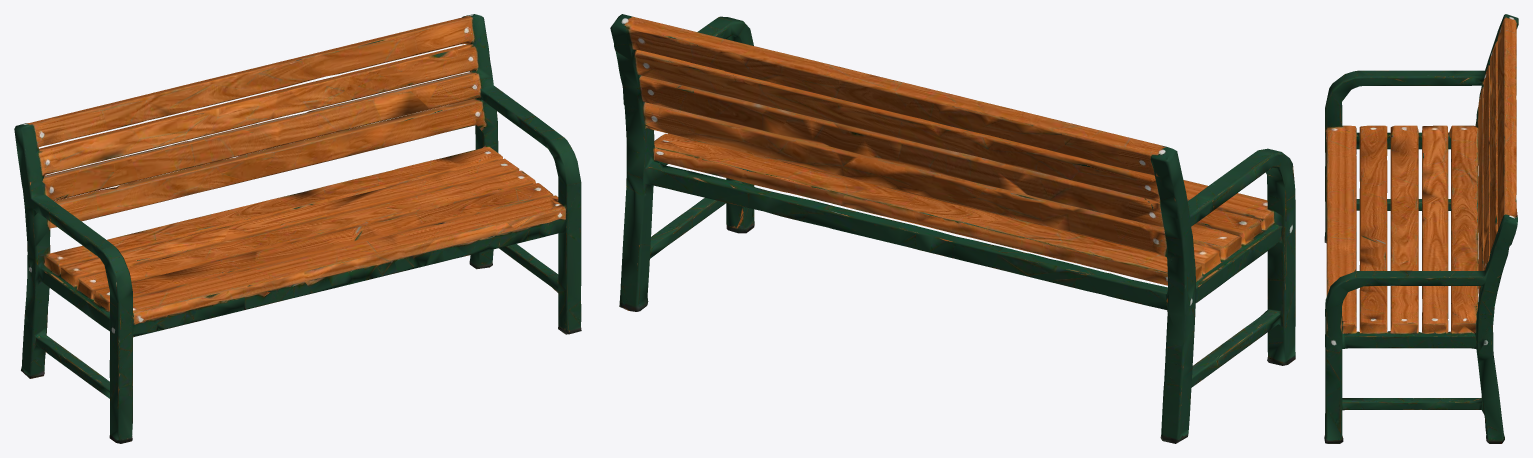
The model's file is bench.glb.
3 views of the same model, side by side, from view 1: azimuth 30°, elevation 25°; view 2: azimuth 150°, elevation 25°; view 3: azimuth 270°, elevation 25° (orthographic). The views are drawn at different scales.
Bounding box in the file's own units: 1.9 × 0.9571 × 0.7526.
Materials: 1 (1 with a texture image).
